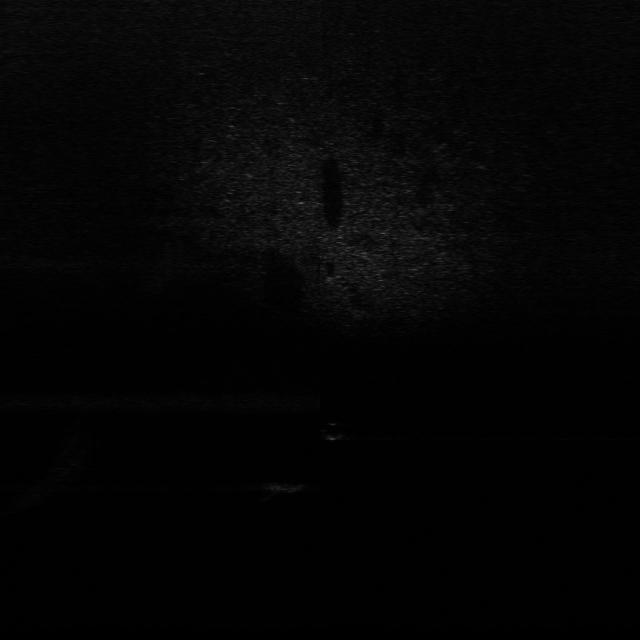ball: (316, 419, 348, 444)
square cage: (257, 478, 319, 495)
